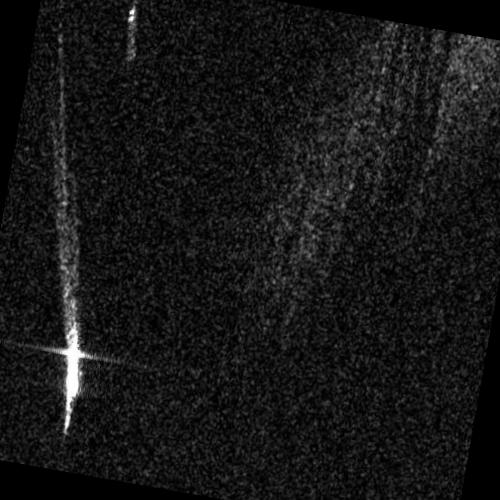ship: (64, 318, 80, 417), (125, 4, 138, 61)
